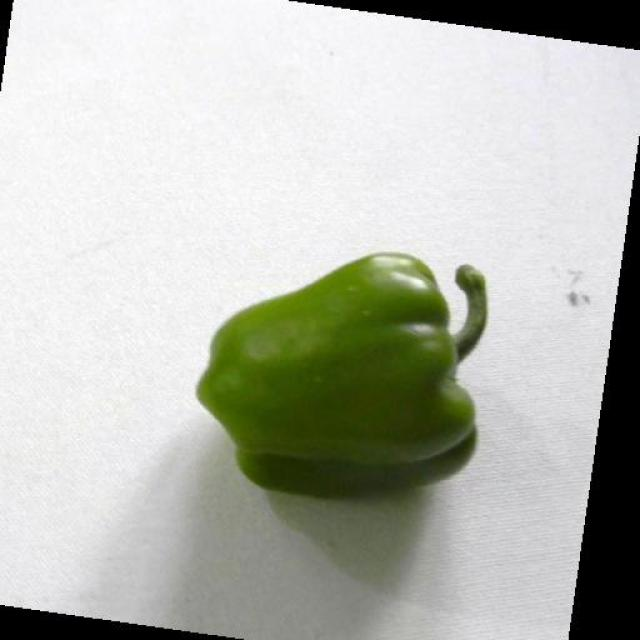Fresh_Capsicum: (186, 213, 532, 503)
